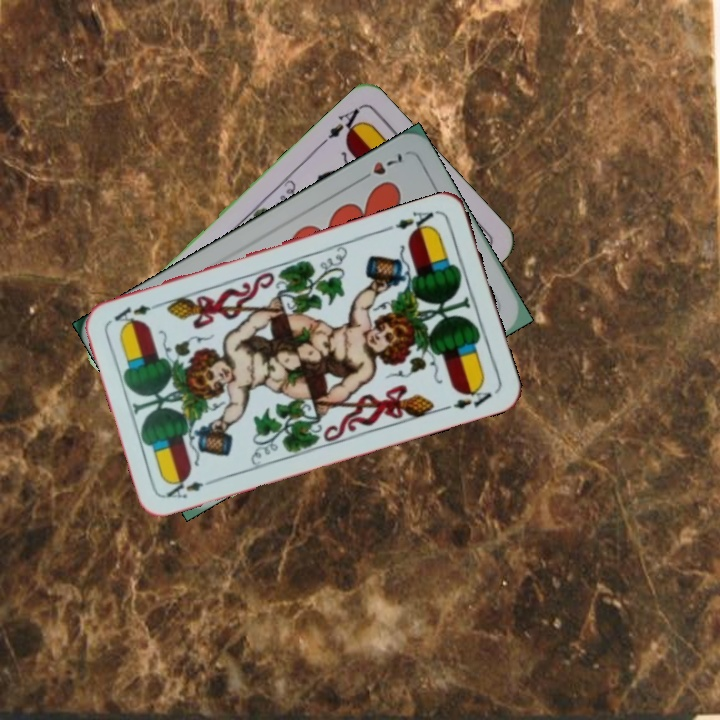EA: (316, 103, 366, 149), (163, 473, 220, 501), (391, 206, 440, 238)
H7: (354, 149, 407, 186)
